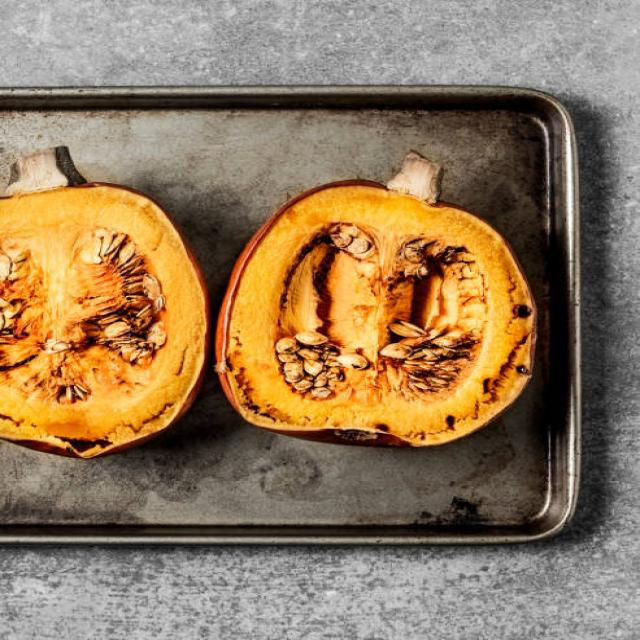pumpkin: (212, 151, 537, 448), (0, 153, 210, 461)
